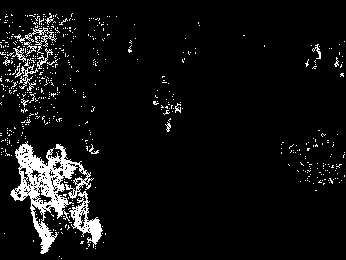person: (9, 143, 76, 254), (41, 142, 103, 246)
